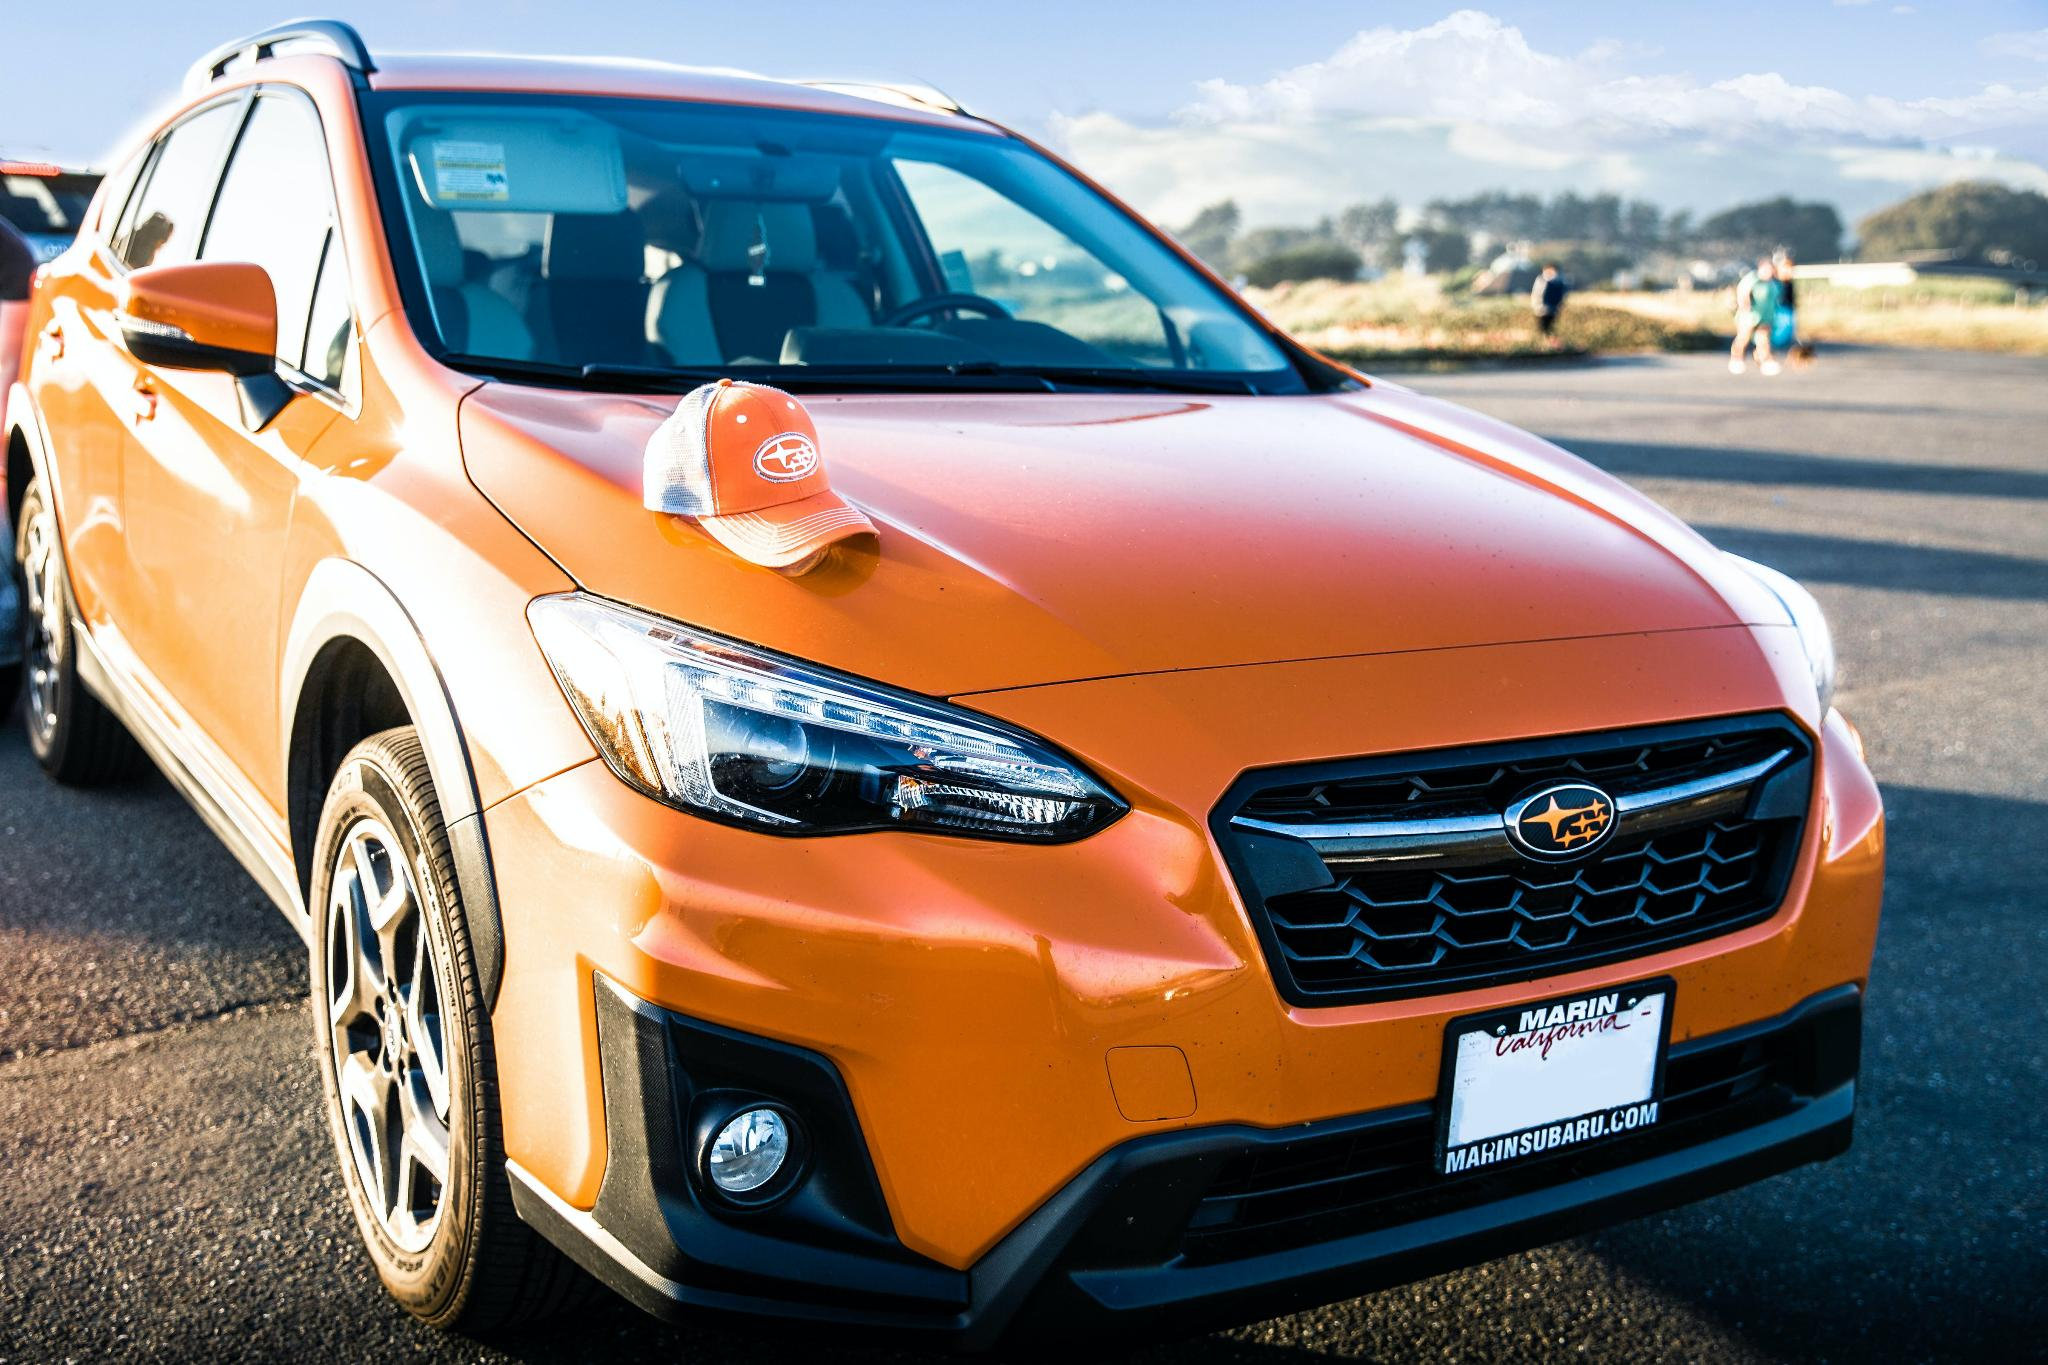subaru: (1475, 750, 1641, 874)
